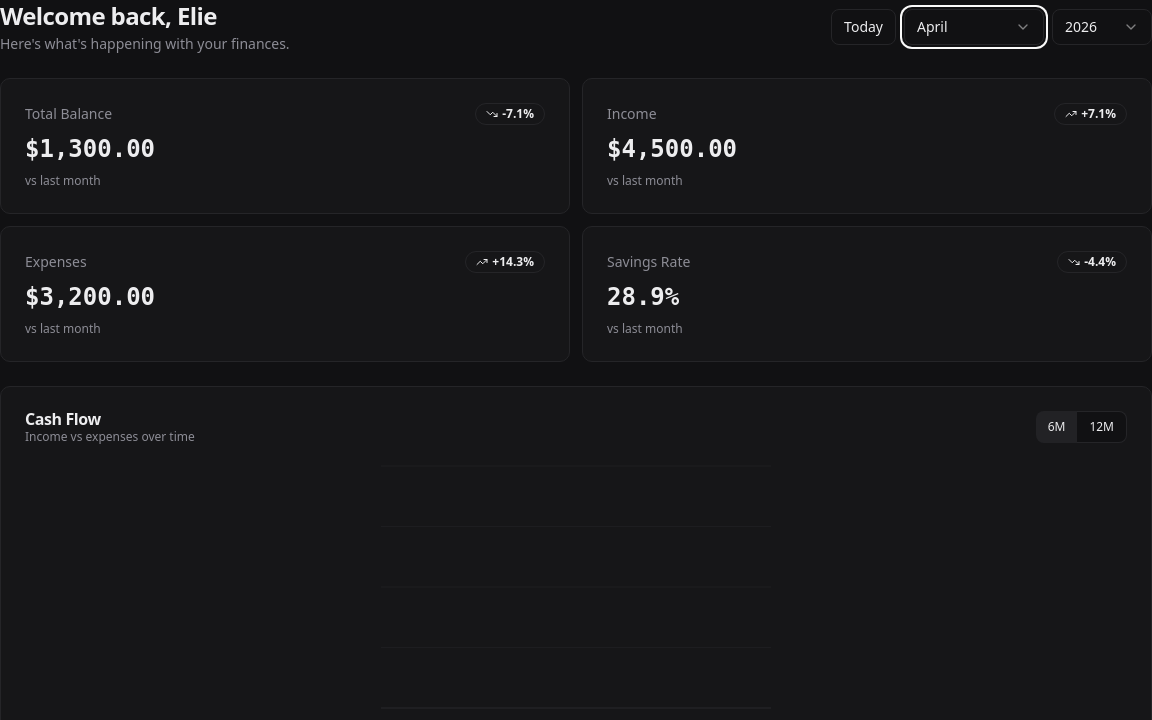
it: Dashboard › changing the period keeps keyboard focus › keeps the period controls mounted while the new period loads
Click the dropdown named "Month": (974,27) top-left (904, 9), bottom-right (1044, 45)
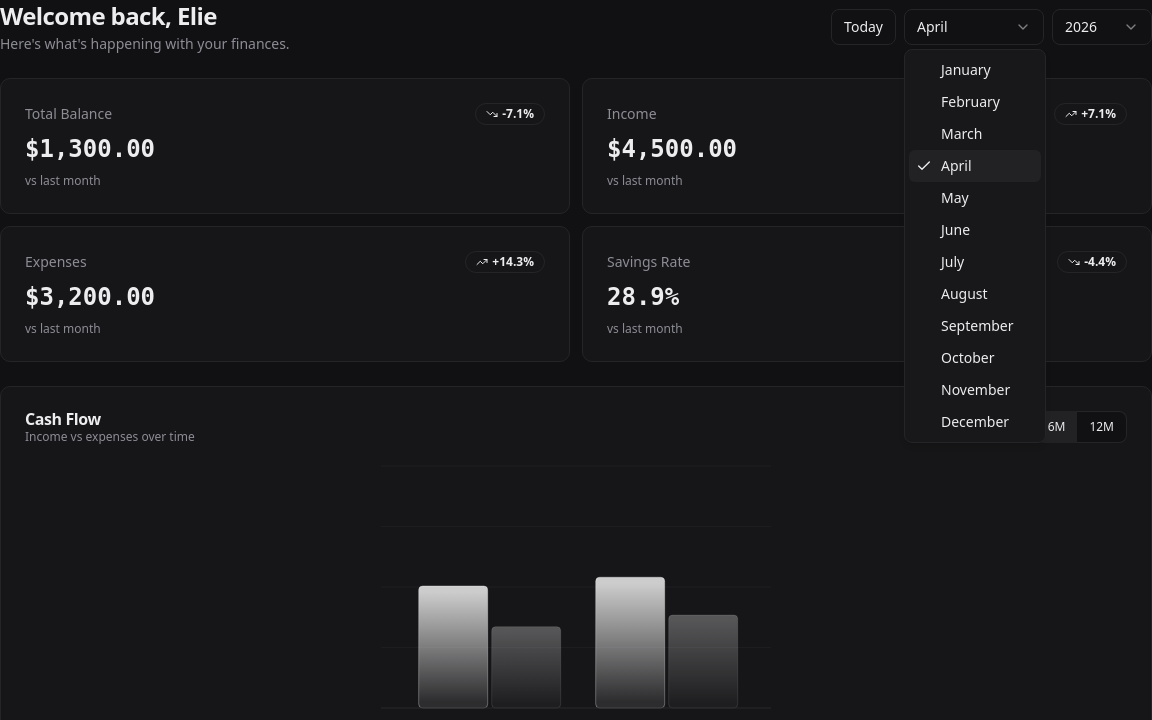
Click the option "May": (955,198) top-left (941, 188), bottom-right (969, 207)
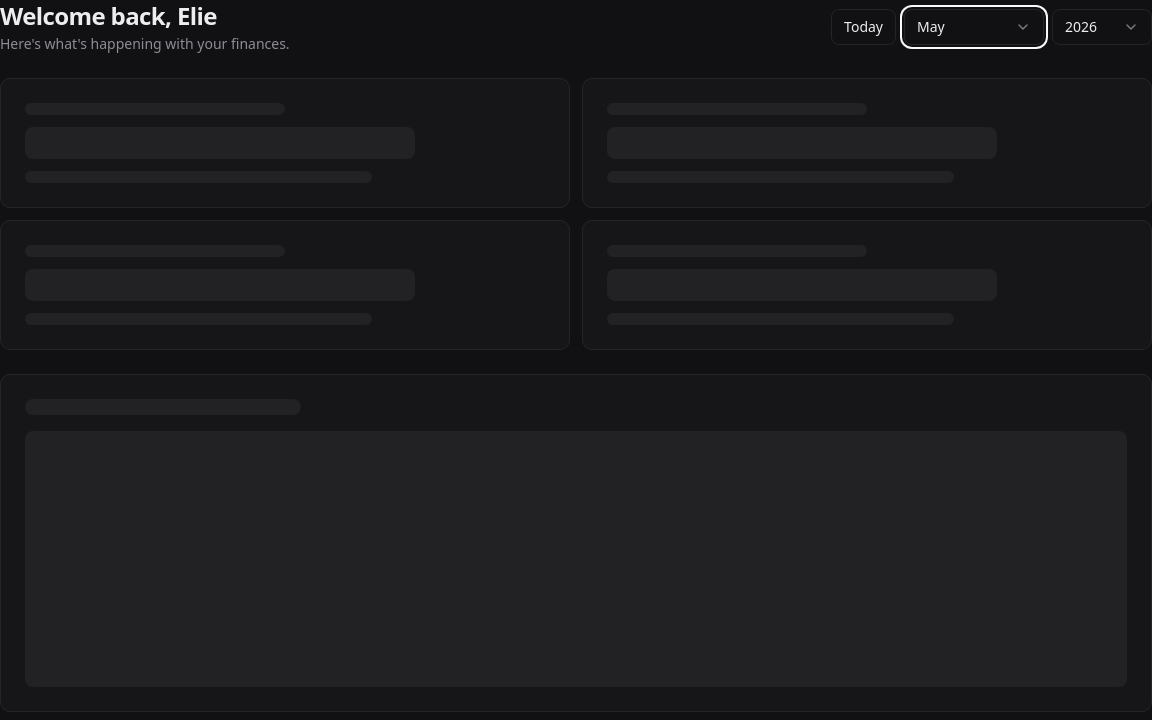
Expected: the dropdown named "Year" is shown, top-left (1052, 9), bottom-right (1151, 45)
Expected: the text "Total Balance" is gone
Expected: the dropdown named "Month" reads "May", top-left (904, 9), bottom-right (1044, 45)
